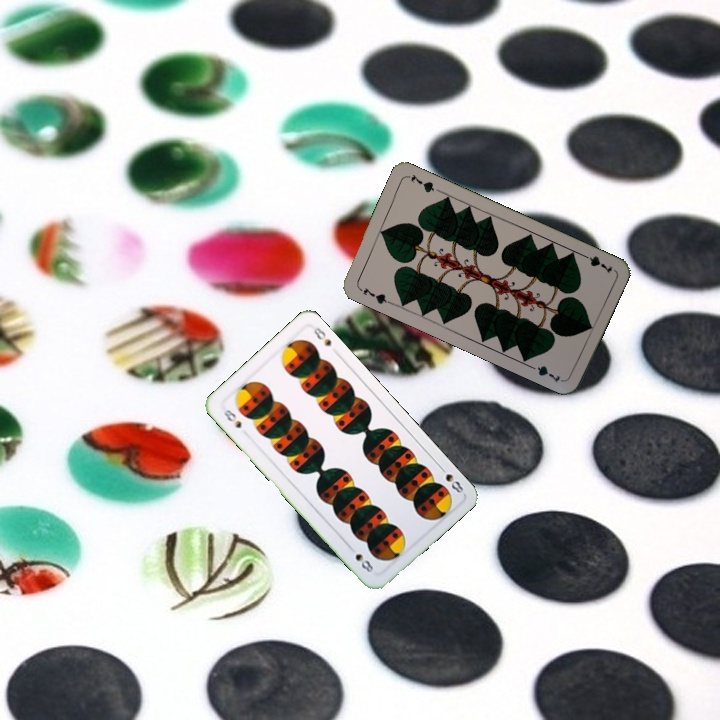G7: (577, 250, 615, 276), (355, 283, 393, 307)
S8: (435, 461, 466, 496), (219, 405, 244, 431)
